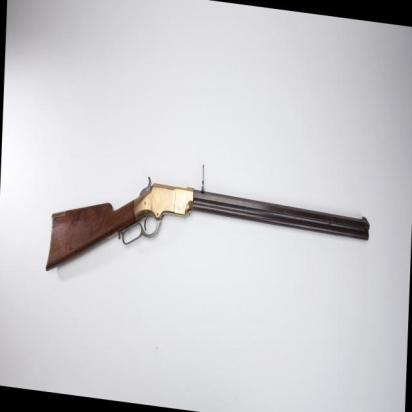Gun: (40, 141, 375, 300)
